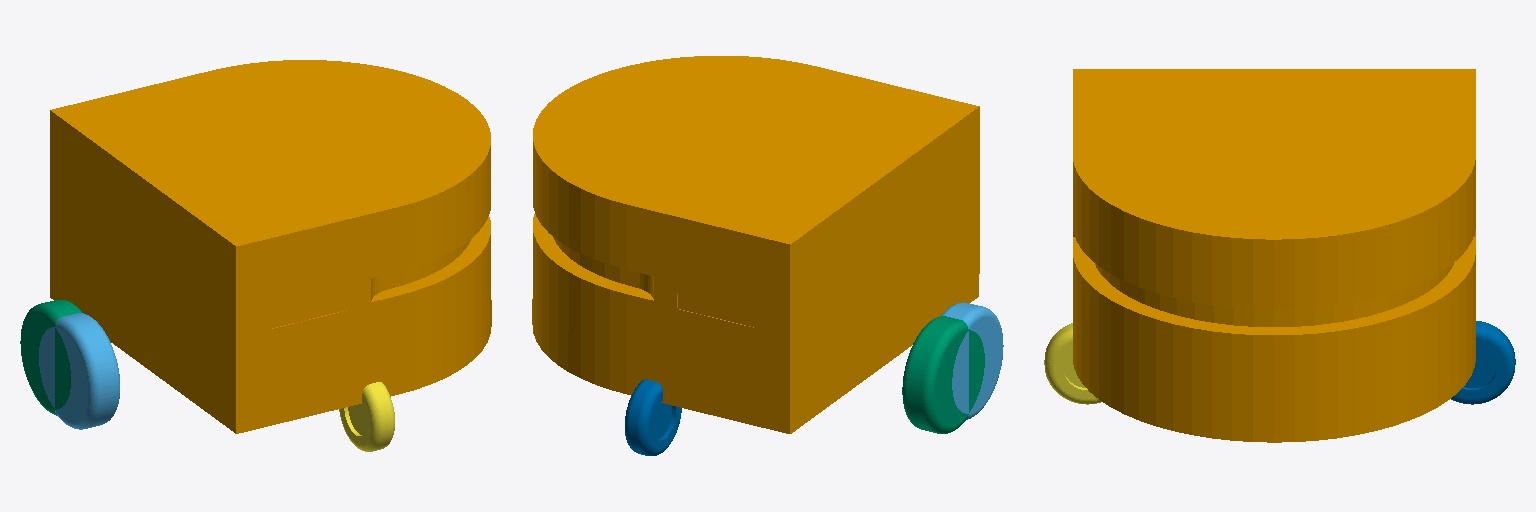
The robot description file, URDF, robot "my_robot":
<robot name="my_robot">

    <link name="b1_structure">
        <visual>
            <origin xyz="0 0 0.1" rpy="1.57 0 1.57"/>
            <geometry>
                <mesh filename="package://my_robot_description/meshes/b1_structure.stl" scale="5 5 5"/>
            </geometry>
            <material name="gray"/>
        </visual>

        <collision>
            <origin xyz="0 0 0.1" rpy="1.57 0 1.57"/>
            <geometry>
                <mesh filename="package://my_robot_description/meshes/b1_structure.stl" scale="5 5 5"/>
            </geometry>
        </collision>

        <inertial>
            <mass value="10"/>
            <origin xyz="0 0 0.1"/>
            <inertia ixx="0.1" ixy="0" ixz="0" iyy="0.1" iyz="0" izz="0.1"/>
        </inertial>
    </link>

    <link name="right_back_wheel">
        <visual>
            <origin xyz="-0.6 -0.7 0.1" rpy="0 0 -1.57"/>
            <geometry>
                <mesh filename="package://my_robot_description/meshes/b1_backWheel.stl" scale="5 5 5"/>
            </geometry>
            <material name="gray"/>
        </visual>

        <collision>
            <origin xyz="-0.6 -0.7 0.1" rpy="0 0 -1.57"/>
            <geometry>
                <mesh filename="package://my_robot_description/meshes/b1_backWheel.stl" scale="5 5 5"/>
            </geometry>
        </collision>

        <inertial>
            <mass value="10"/>
            <origin xyz="0 0 0"/>
            <inertia ixx="0.1" ixy="0" ixz="0" iyy="0.1" iyz="0" izz="0.1"/>
        </inertial>
    </link>

    <joint name="structure_to_right_back_wheel" type="continuous">
        <origin xyz="-0.6 -0.7 0.1" rpy="0 0 -1.57"/>
        <parent link="b1_structure"/>
        <child link="right_back_wheel"/>
        <axis xyz="0 1 0"/>
        <limit  effort="10" velocity="1"/>
    </joint>

    <link name="left_back_wheel">
        <visual>
            <origin xyz="-0.6 0.7 0.1" rpy="0 0 1.57"/>
            <geometry>
                <mesh filename="package://my_robot_description/meshes/b1_backWheel.stl" scale="5 5 5"/>
            </geometry>
            <material name="gray"/>
        </visual>

        <collision>
            <origin xyz="-0.6 0.7 0.1" rpy="0 0 1.57"/>
            <geometry>
                <mesh filename="package://my_robot_description/meshes/b1_backWheel.stl" scale="5 5 5"/>
            </geometry>
        </collision>

        <inertial>
            <mass value="10"/>
            <origin xyz="0 0 0"/>
            <inertia ixx="0.1" ixy="0" ixz="0" iyy="0.1" iyz="0" izz="0.1"/>
        </inertial>
    </link>

    <joint name="structure_to_left_back_wheel" type="continuous">
        <origin xyz="-0.6 0.7 0.1" rpy="0 0 1.57"/>
        <parent link="b1_structure"/>
        <child link="left_back_wheel"/>
        <axis xyz="0 1 0"/>
        <limit  effort="10" velocity="1"/>
    </joint>

    <link name="right_front_wheel">
        <visual>
            <origin xyz="0.5 -0.5 0" rpy="0 0 -1.57"/>
            <geometry>
                <mesh filename="package://my_robot_description/meshes/b1_frontWheel.stl" scale="0.01 0.01 0.01"/>
            </geometry>
            <material name="gray"/>
        </visual>

        <collision>
            <origin xyz="0.5 -0.5 0" rpy="0 0 -1.57"/>
            <geometry>
                <mesh filename="package://my_robot_description/meshes/b1_frontWheel.stl" scale="0.01 0.01 0.01"/>
            </geometry>
        </collision>

        <inertial>
            <mass value="10"/>
            <origin xyz="0 0 0"/>
            <inertia ixx="0.1" ixy="0" ixz="0" iyy="0.1" iyz="0" izz="0.1"/>
        </inertial>
    </link>

    <joint name="structure_to_right_front_wheel" type="continuous">
        <origin xyz="0.5 -0.5 0" rpy="0 0 -1.57"/>
        <parent link="b1_structure"/>
        <child link="right_front_wheel"/>
        <axis xyz="0 1 0"/>
        <limit  effort="10" velocity="1"/>
    </joint>

    <link name="left_front_wheel">
        <visual>
            <origin xyz="0.5 0.5 0" rpy="0 0 1.57"/>
            <geometry>
                <mesh filename="package://my_robot_description/meshes/b1_frontWheel.stl" scale="0.01 0.01 0.01"/>
            </geometry>
            <material name="gray"/>
        </visual>

        <collision>
            <origin xyz="0.6 0.6 0" rpy="0 0 1.57"/>
            <geometry>
                <mesh filename="package://my_robot_description/meshes/b1_frontWheel.stl" scale="0.01 0.01 0.01"/>
            </geometry>
        </collision>

        <inertial>
            <mass value="10"/>
            <origin xyz="0 0 0"/>
            <inertia ixx="0.1" ixy="0" ixz="0" iyy="0.1" iyz="0" izz="0.1"/>
        </inertial>
    </link>

    <joint name="structure_to_left_front_wheel" type="continuous">
        <origin xyz="0.5 0.5 0" rpy="0 0 1.57"/>
        <parent link="b1_structure"/>
        <child link="left_front_wheel"/>
        <axis xyz="0 1 0"/>
        <limit  effort="10" velocity="1"/>
    </joint>

</robot>

--- What the picture shows (computed from the rendered views, not written in the file) ---
The picture shows the robot from 3 angles, left to right: view 1: azimuth 30°, elevation 25°; view 2: azimuth 150°, elevation 25°; view 3: azimuth 270°, elevation 25°; orthographic projection.
Robot: my_robot — 5 links, 4 joints (4 continuous); root link b1_structure; default pose: all joints at 0.
Visible links, largest first — view 1: b1_structure, right_back_wheel, left_back_wheel, right_front_wheel; view 2: b1_structure, left_back_wheel, right_back_wheel, left_front_wheel; view 3: b1_structure, left_front_wheel, right_front_wheel.
Link boxes in pixels (x1,y1,x2,y2): b1_structure: (50,60,491,433); right_back_wheel: (39,313,119,429); left_back_wheel: (20,300,81,415); right_front_wheel: (339,382,394,451); b1_structure: (532,56,979,433); left_back_wheel: (902,316,984,433); right_back_wheel: (941,302,1003,419); left_front_wheel: (625,379,681,455); b1_structure: (1073,69,1475,442); left_front_wheel: (1451,321,1515,404); right_front_wheel: (1044,323,1101,404).
Bounding box of the posed robot: 2.66 × 2.45 × 1.49 m (x, y, z).
Meshes: 3 distinct files referenced, 5 mesh visuals loaded (3 binary STL).
